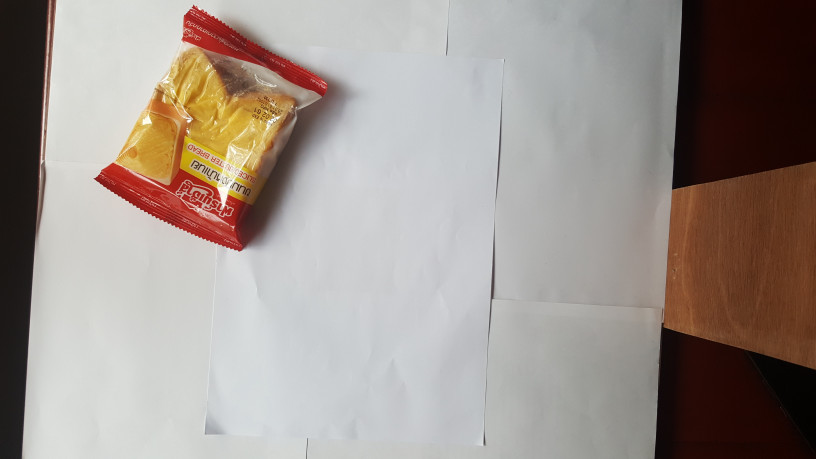farmhouse-bread-butter: (90, 4, 335, 256)
